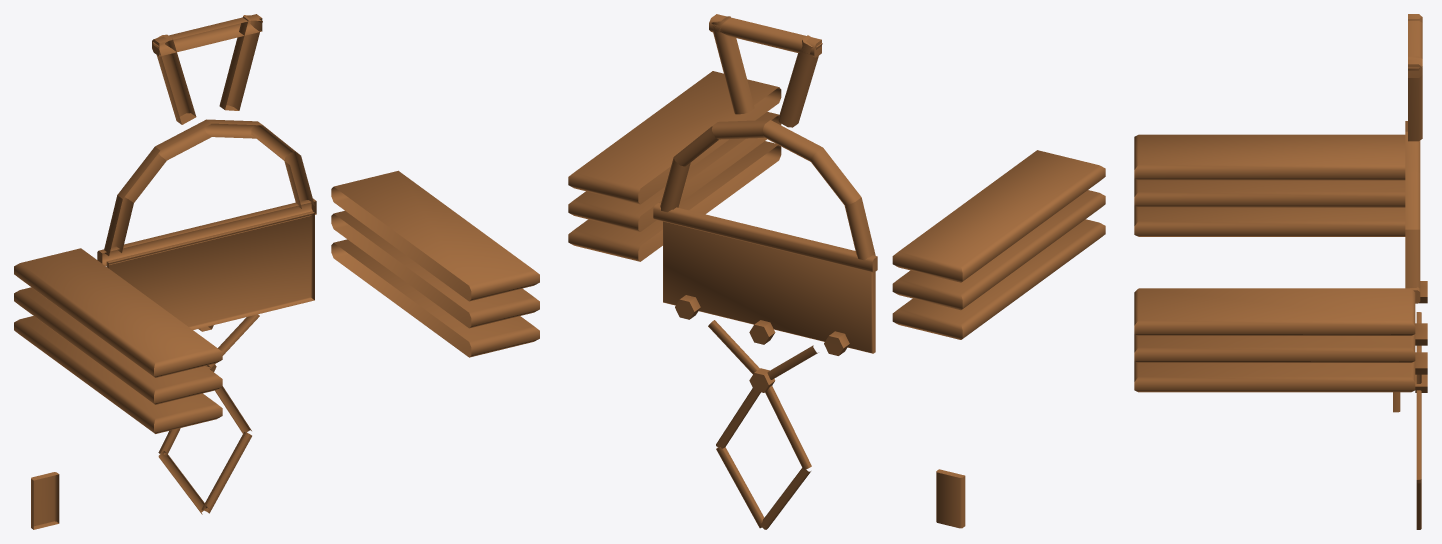
File: moss_jukebox_trim.glb
The picture shows the model from 3 angles, left to right: view 1: azimuth 30°, elevation 25°; view 2: azimuth 150°, elevation 25°; view 3: azimuth 270°, elevation 25°; orthographic projection. The views are drawn at different scales.
Parts seen in each view (by area): view 1: Trim; view 2: Trim; view 3: Trim.
Part boxes in pixels (bbox=[...]): Trim: bbox=[14, 14, 539, 529]; Trim: bbox=[568, 14, 1105, 529]; Trim: bbox=[1134, 14, 1427, 529].
Bounding box in the file's own units: 1.8 × 2.17 × 1.18.
